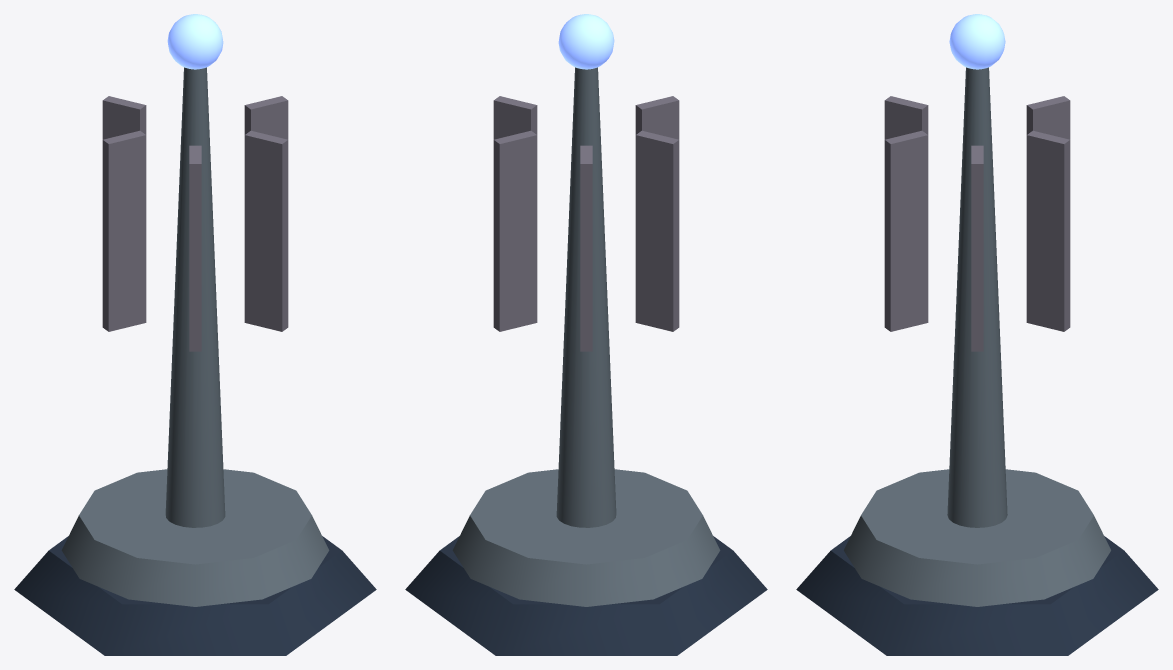
File: cryogenic_hydrocarbon--command_relay.glb
3 views of the same model, side by side, from view 1: azimuth 30°, elevation 25°; view 2: azimuth 150°, elevation 25°; view 3: azimuth 270°, elevation 25° (orthographic).
Visible parts, largest first — view 1: rotation_bearing_2, mount_adapter_1, relay_mast_3, relay_vane_5, relay_vane_7, relay_vane_6, signal_tip_10, relay_vane_4, relay_vane_8; view 2: rotation_bearing_2, mount_adapter_1, relay_mast_3, relay_vane_7, relay_vane_9, relay_vane_8, signal_tip_10, relay_vane_4, relay_vane_6; view 3: rotation_bearing_2, mount_adapter_1, relay_mast_3, relay_vane_5, relay_vane_9, relay_vane_4, signal_tip_10, relay_vane_6, relay_vane_8.
Boxes of the visible parts, <box> form: rotation_bearing_2: <box>61,469,329,606</box>; mount_adapter_1: <box>14,536,376,655</box>; relay_mast_3: <box>165,67,225,527</box>; relay_vane_5: <box>244,130,288,331</box>; relay_vane_7: <box>102,130,146,331</box>; relay_vane_6: <box>189,145,201,351</box>; signal_tip_10: <box>167,14,223,69</box>; relay_vane_4: <box>244,96,288,139</box>; relay_vane_8: <box>102,96,146,139</box>; rotation_bearing_2: <box>452,469,720,606</box>; mount_adapter_1: <box>405,536,767,655</box>; relay_mast_3: <box>556,67,616,527</box>; relay_vane_7: <box>635,130,679,331</box>; relay_vane_9: <box>493,130,537,331</box>; relay_vane_8: <box>580,145,592,351</box>; signal_tip_10: <box>558,14,614,69</box>; relay_vane_4: <box>493,96,537,139</box>; relay_vane_6: <box>635,96,679,139</box>; rotation_bearing_2: <box>844,469,1110,606</box>; mount_adapter_1: <box>796,536,1158,655</box>; relay_mast_3: <box>947,67,1007,527</box>; relay_vane_5: <box>884,130,928,331</box>; relay_vane_9: <box>1026,130,1070,331</box>; relay_vane_4: <box>971,145,983,351</box>; signal_tip_10: <box>949,14,1005,69</box>; relay_vane_6: <box>884,96,928,139</box>; relay_vane_8: <box>1026,96,1070,139</box>.
Size of the model in its own units: 4.36 by 8.79 by 5.04.
